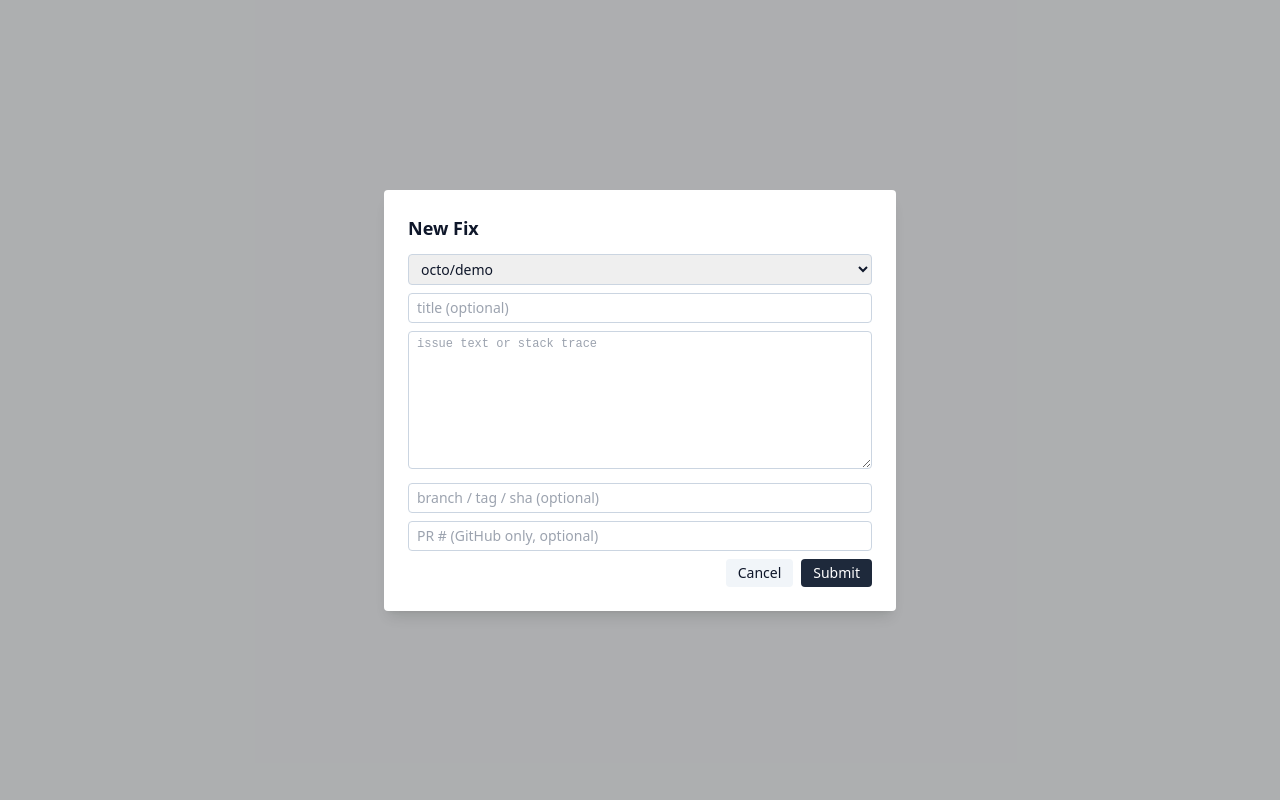
blocks submit and shows an error when issue text is empty
Click the button "Submit" at (837, 572), box [801,558,872,586]
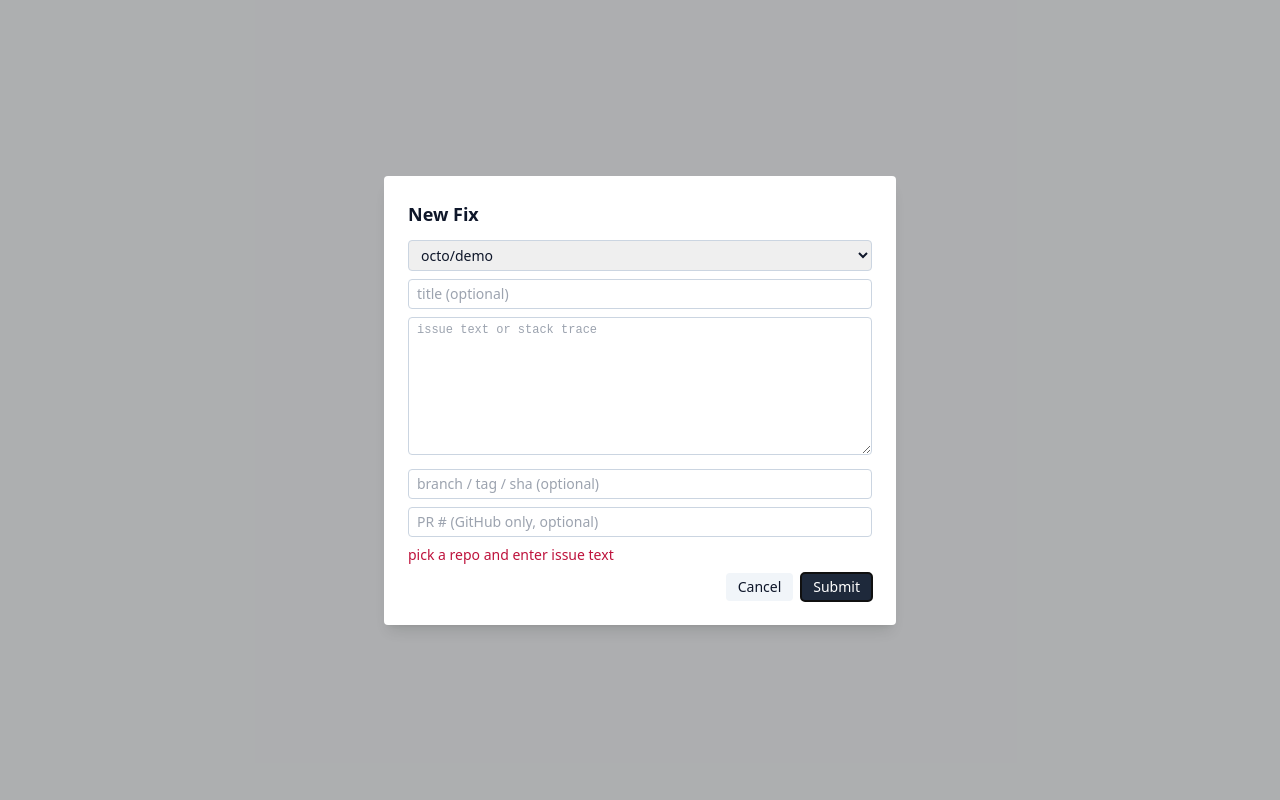
Expected: the text "pick a repo and enter issue text" is shown, [408,544,614,564]
